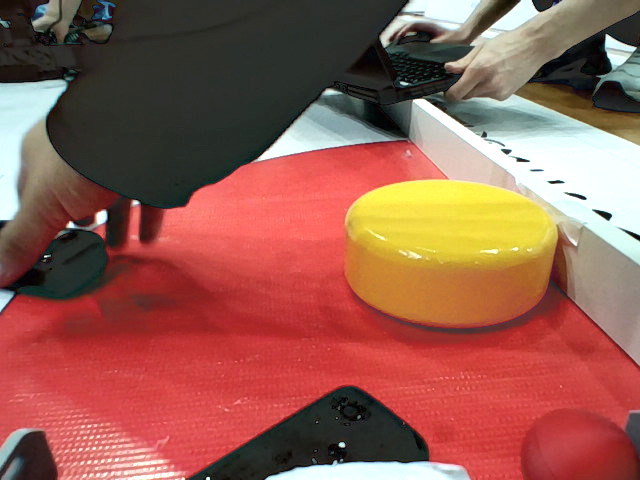black: (153, 376, 445, 480), (1, 205, 116, 312)
kuang: (322, 160, 562, 328)
red: (509, 398, 635, 480)
